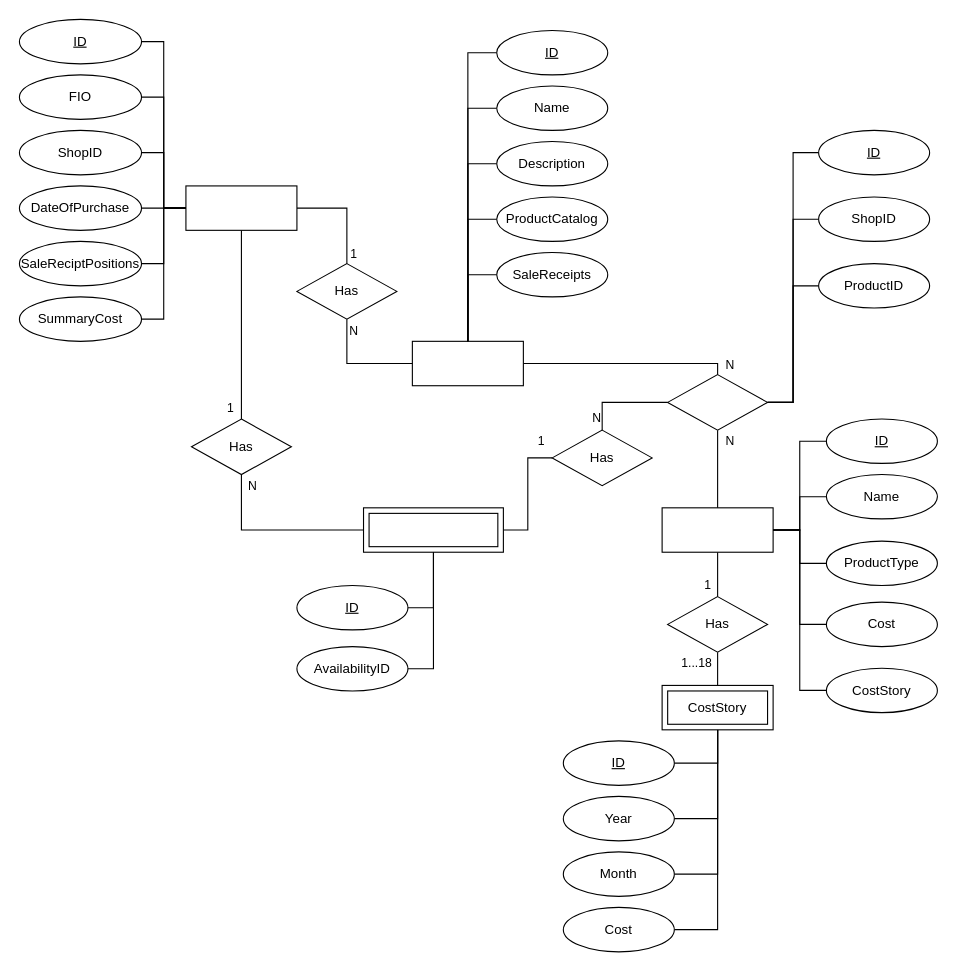
Some shapes in this 957 by 971 pixel diagram are drawn without their labels. Here are the shapes that lost their labels. From the top down, the centre of each, then its label:
point 241,207: SaleReceipt
point 467,363: Shop
point 717,402: Availability
point 432,529: SaleReceiptPosition
point 717,529: Product
